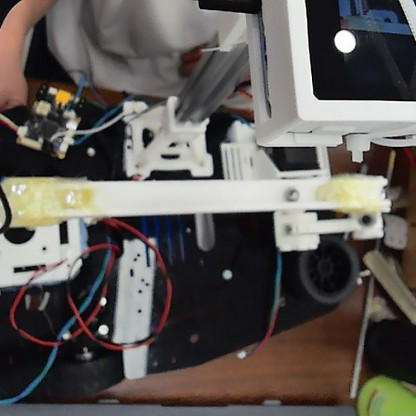ironball: (285, 185, 300, 202)
